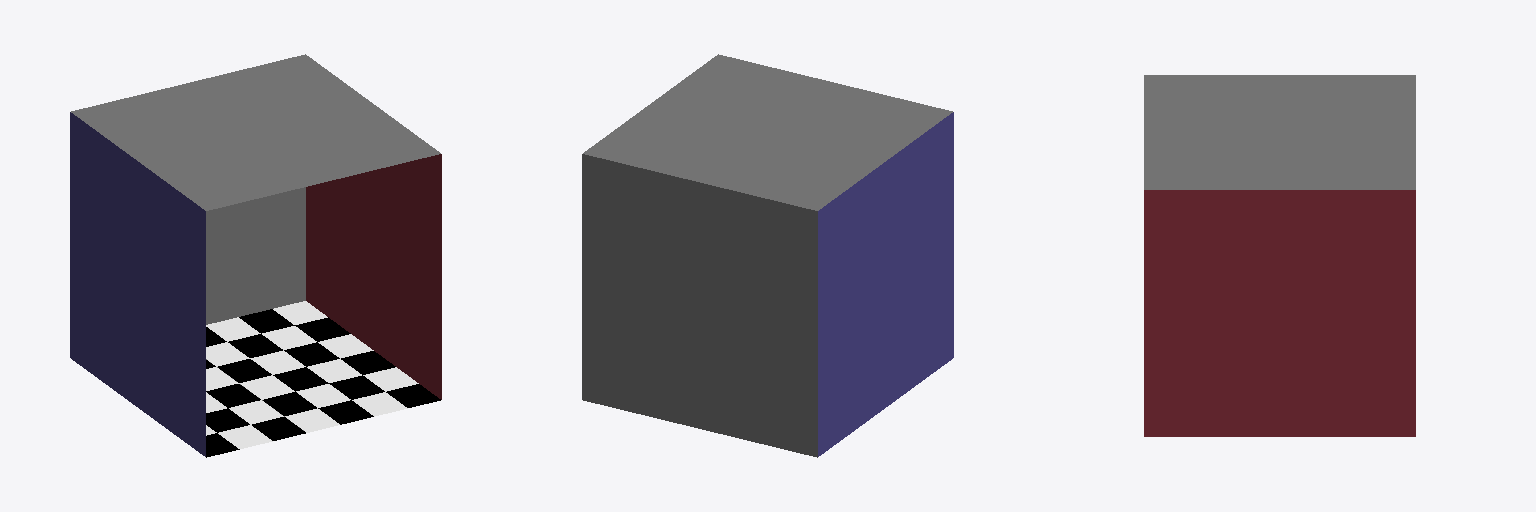
The picture shows the model from 3 angles: view 1: azimuth 30°, elevation 25°; view 2: azimuth 150°, elevation 25°; view 3: azimuth 270°, elevation 25°; orthographic projection.
Visible parts, largest first — view 1: LeftWall_LeftWall_LeftWall, Ceiling_Ceiling_Ceiling, RightWall_RightWall_RightWall, Floor_cher.jpg_Floor_cher.jpg_Floor_cher.jpg_wood.jpg, BackWall_cher.jpg_che_BackWall_cher.jpg_che_BackWall_cher.jpg_c; view 2: BackWall_cher.jpg_che_BackWall_cher.jpg_che_BackWall_cher.jpg_c, LeftWall_LeftWall_LeftWall, Ceiling_Ceiling_Ceiling; view 3: RightWall_RightWall_RightWall, Ceiling_Ceiling_Ceiling.
Part boxes in pixels (left/top/right/bottom): LeftWall_LeftWall_LeftWall: left=70, top=112, right=205, bottom=456; Ceiling_Ceiling_Ceiling: left=71, top=54, right=440, bottom=210; RightWall_RightWall_RightWall: left=306, top=154, right=441, bottom=399; Floor_cher.jpg_Floor_cher.jpg_Floor_cher.jpg_wood.jpg: left=206, top=301, right=440, bottom=457; BackWall_cher.jpg_che_BackWall_cher.jpg_che_BackWall_cher.jpg_c: left=206, top=187, right=305, bottom=324; BackWall_cher.jpg_che_BackWall_cher.jpg_che_BackWall_cher.jpg_c: left=582, top=154, right=817, bottom=457; LeftWall_LeftWall_LeftWall: left=818, top=112, right=953, bottom=456; Ceiling_Ceiling_Ceiling: left=583, top=54, right=952, bottom=210; RightWall_RightWall_RightWall: left=1144, top=190, right=1415, bottom=436; Ceiling_Ceiling_Ceiling: left=1144, top=75, right=1415, bottom=189.
Size of the model in its own units: 17.11 by 17.11 by 17.11.
Materials: 6 (1 with a texture image).